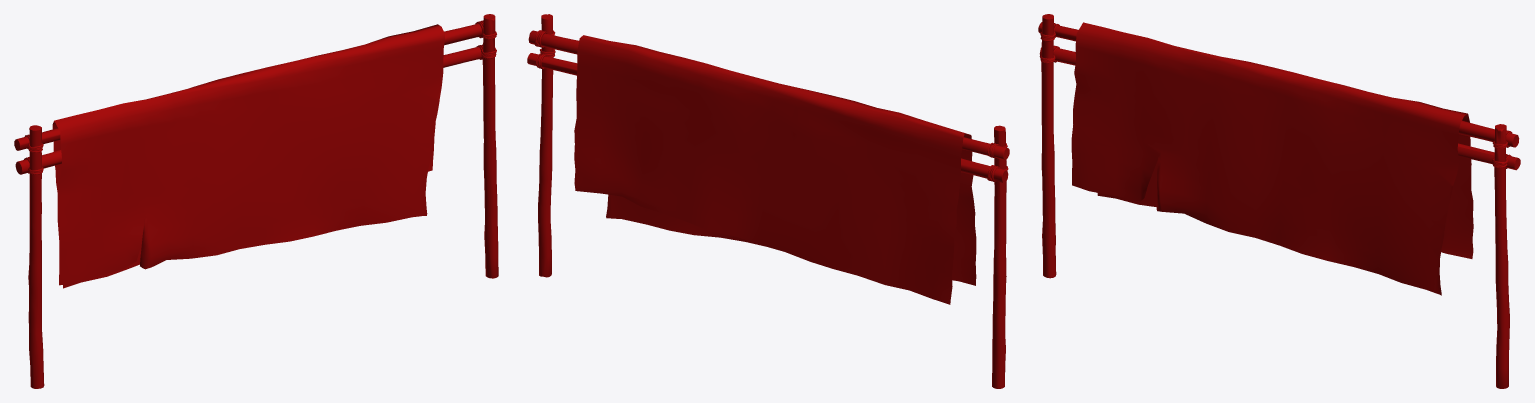
File: SM_Cloth_Hanger.fbx
The picture shows the model from 3 angles, left to right: view 1: azimuth 30°, elevation 25°; view 2: azimuth 150°, elevation 25°; view 3: azimuth 330°, elevation 25°; orthographic projection.
Visible parts, largest first — view 1: SM_Cloth_Hanger; view 2: SM_Cloth_Hanger; view 3: SM_Cloth_Hanger.
Part boxes in pixels (bbox=[...]): SM_Cloth_Hanger: bbox=[14, 14, 498, 388]; SM_Cloth_Hanger: bbox=[527, 14, 1009, 388]; SM_Cloth_Hanger: bbox=[1038, 14, 1520, 388].
Size of the model in its own units: 231 by 15.85 by 120.
